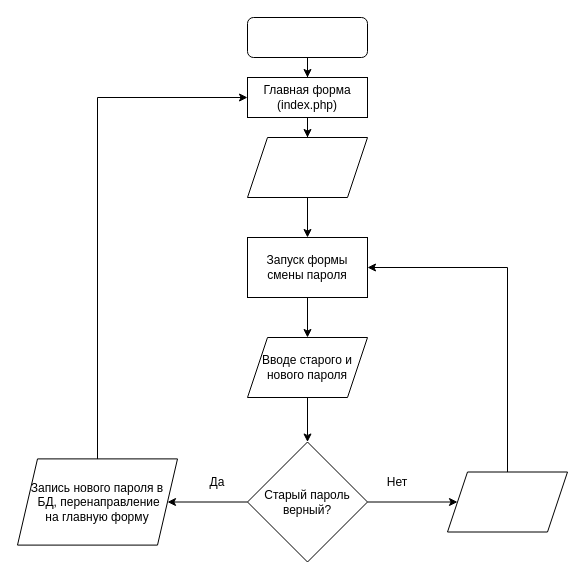
This 585x580 diagram has some shape labels left out. The shapes that lost their labels are listed below. From the top down, each one's centre as x and y in pixels, then its label:
At [307,37]: "Начало".
At [307,167]: "Нажатие кнопки смена пароля".
At [507,501]: "Вывод ошибки".
